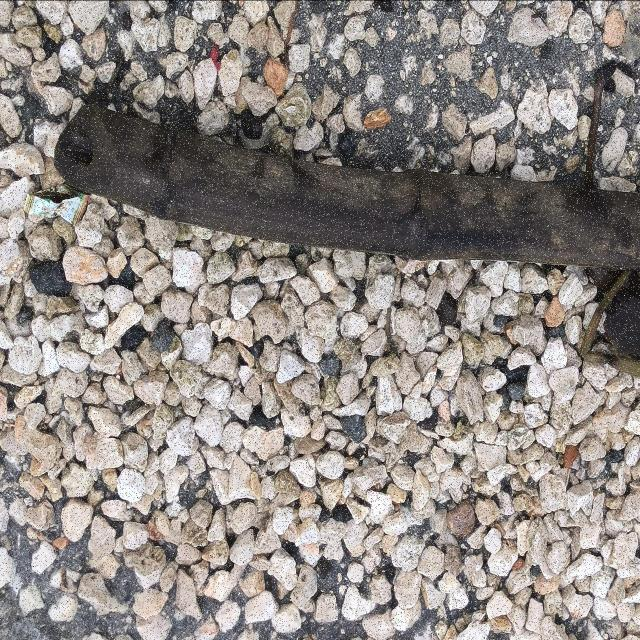wood_waste: (51, 97, 640, 277)
